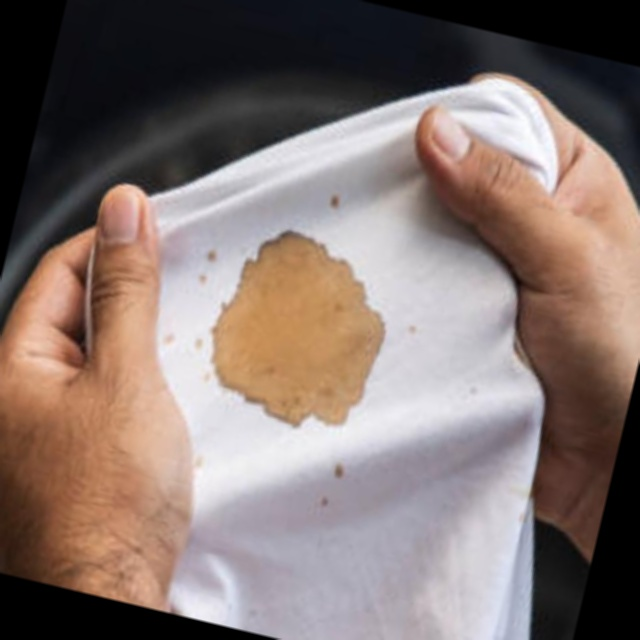coffee: (191, 214, 406, 443)
